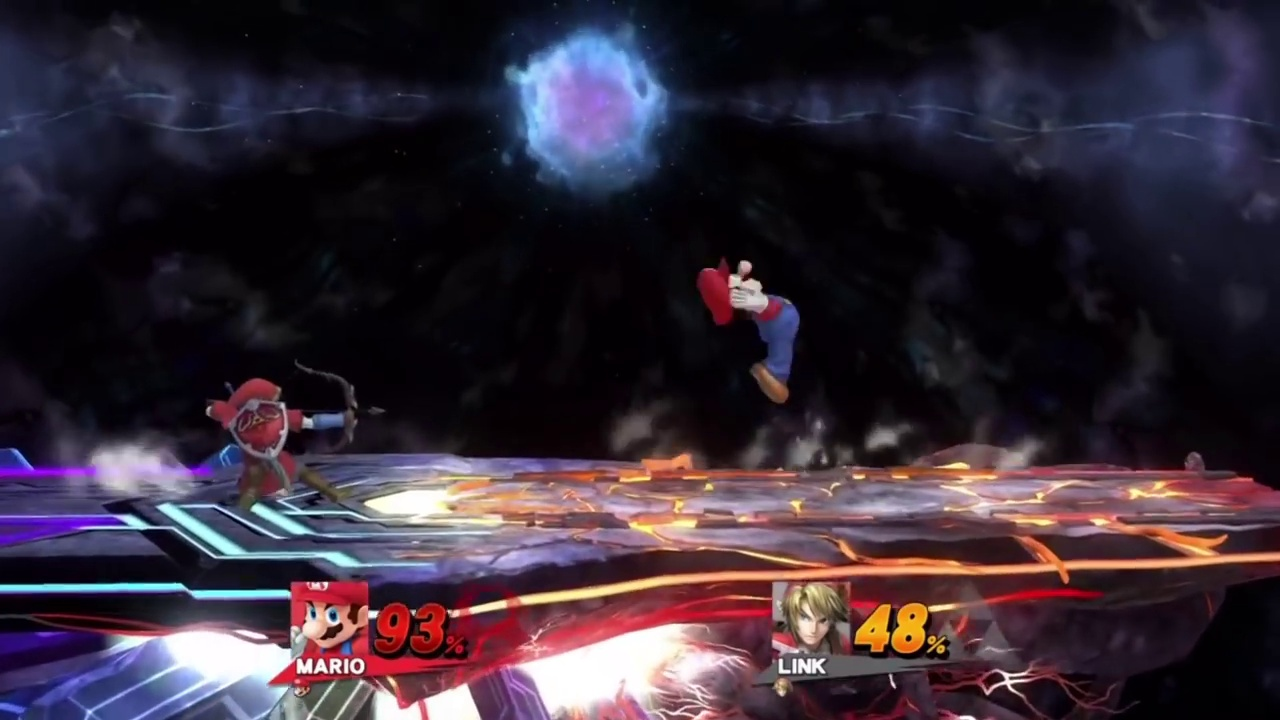Mario: (688, 259, 806, 410)
